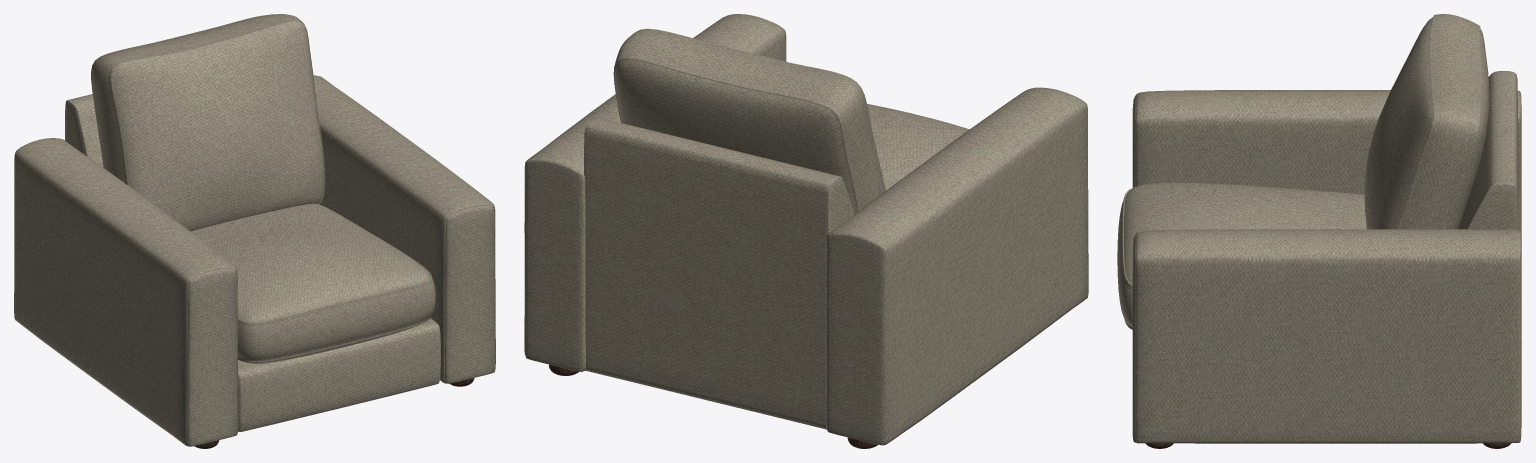
Rendered from abo-B07QDL462L.glb.
3 renders of one model, left to right at view 1: azimuth 30°, elevation 25°; view 2: azimuth 150°, elevation 25°; view 3: azimuth 270°, elevation 25°, orthographic. The views are drawn at different scales.
Size of the model in its own units: 1.01 by 0.873 by 1.02.
1 material, 1 textured.
